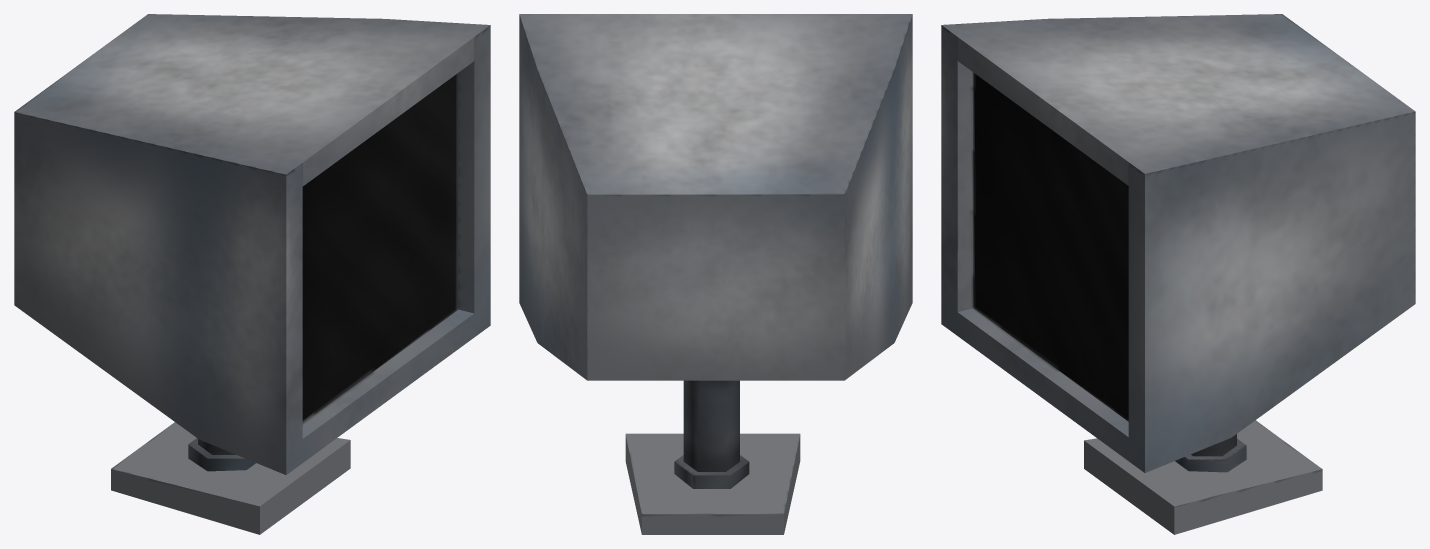
The model's file is monitor_pc.FBX.
3 renders of one model, left to right at view 1: azimuth 30°, elevation 25°; view 2: azimuth 150°, elevation 25°; view 3: azimuth 270°, elevation 25°, orthographic. The views are drawn at different scales.
Visible parts, largest first — view 1: monitor; view 2: monitor; view 3: monitor.
Boxes of the visible parts, <box> form: monitor: <box>14,14,490,534</box>; monitor: <box>519,14,912,534</box>; monitor: <box>941,14,1415,534</box>.
Size of the model in its own units: 25.52 by 25.36 by 25.85.
Materials: 1 (1 with a texture image).
